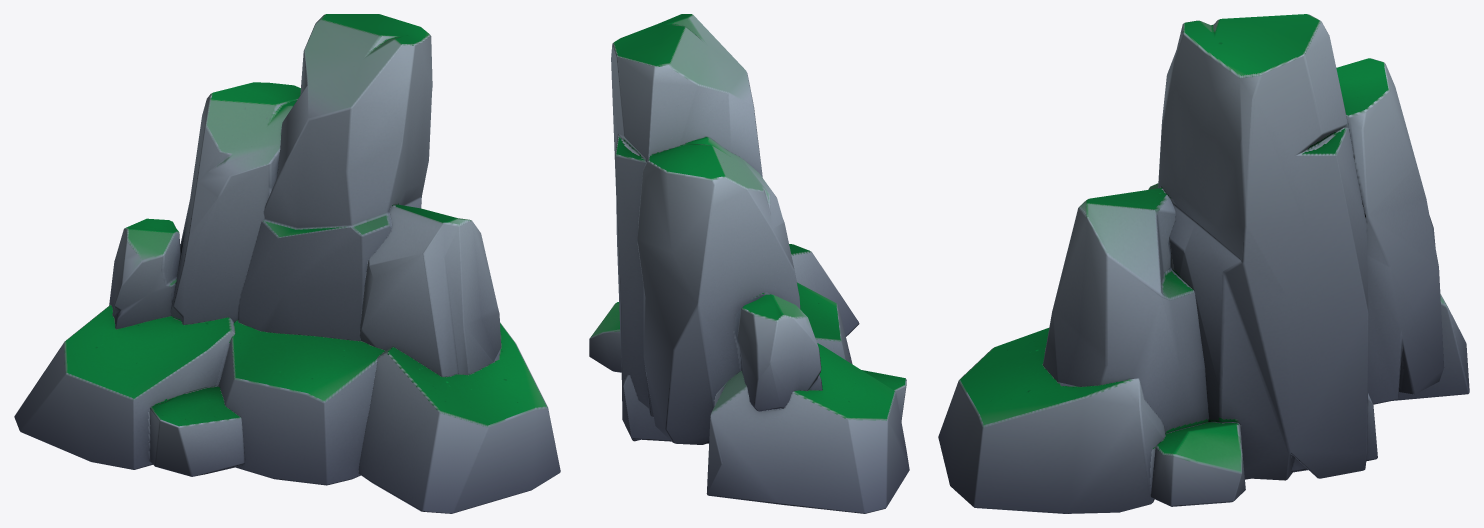
File: RockFountainDark.fbx
The picture shows the model from 3 angles, left to right: view 1: azimuth 30°, elevation 25°; view 2: azimuth 150°, elevation 25°; view 3: azimuth 270°, elevation 25°; orthographic projection. The views are drawn at different scales.
Parts seen in each view (by area): view 1: RockFountainDark_low; view 2: RockFountainDark_low; view 3: RockFountainDark_low.
Part boxes in pixels (x1,y1,x2,y2): RockFountainDark_low: (14,14,560,513); RockFountainDark_low: (589,14,909,513); RockFountainDark_low: (938,14,1469,513).
Size of the model in its own units: 912 by 887 by 933.
